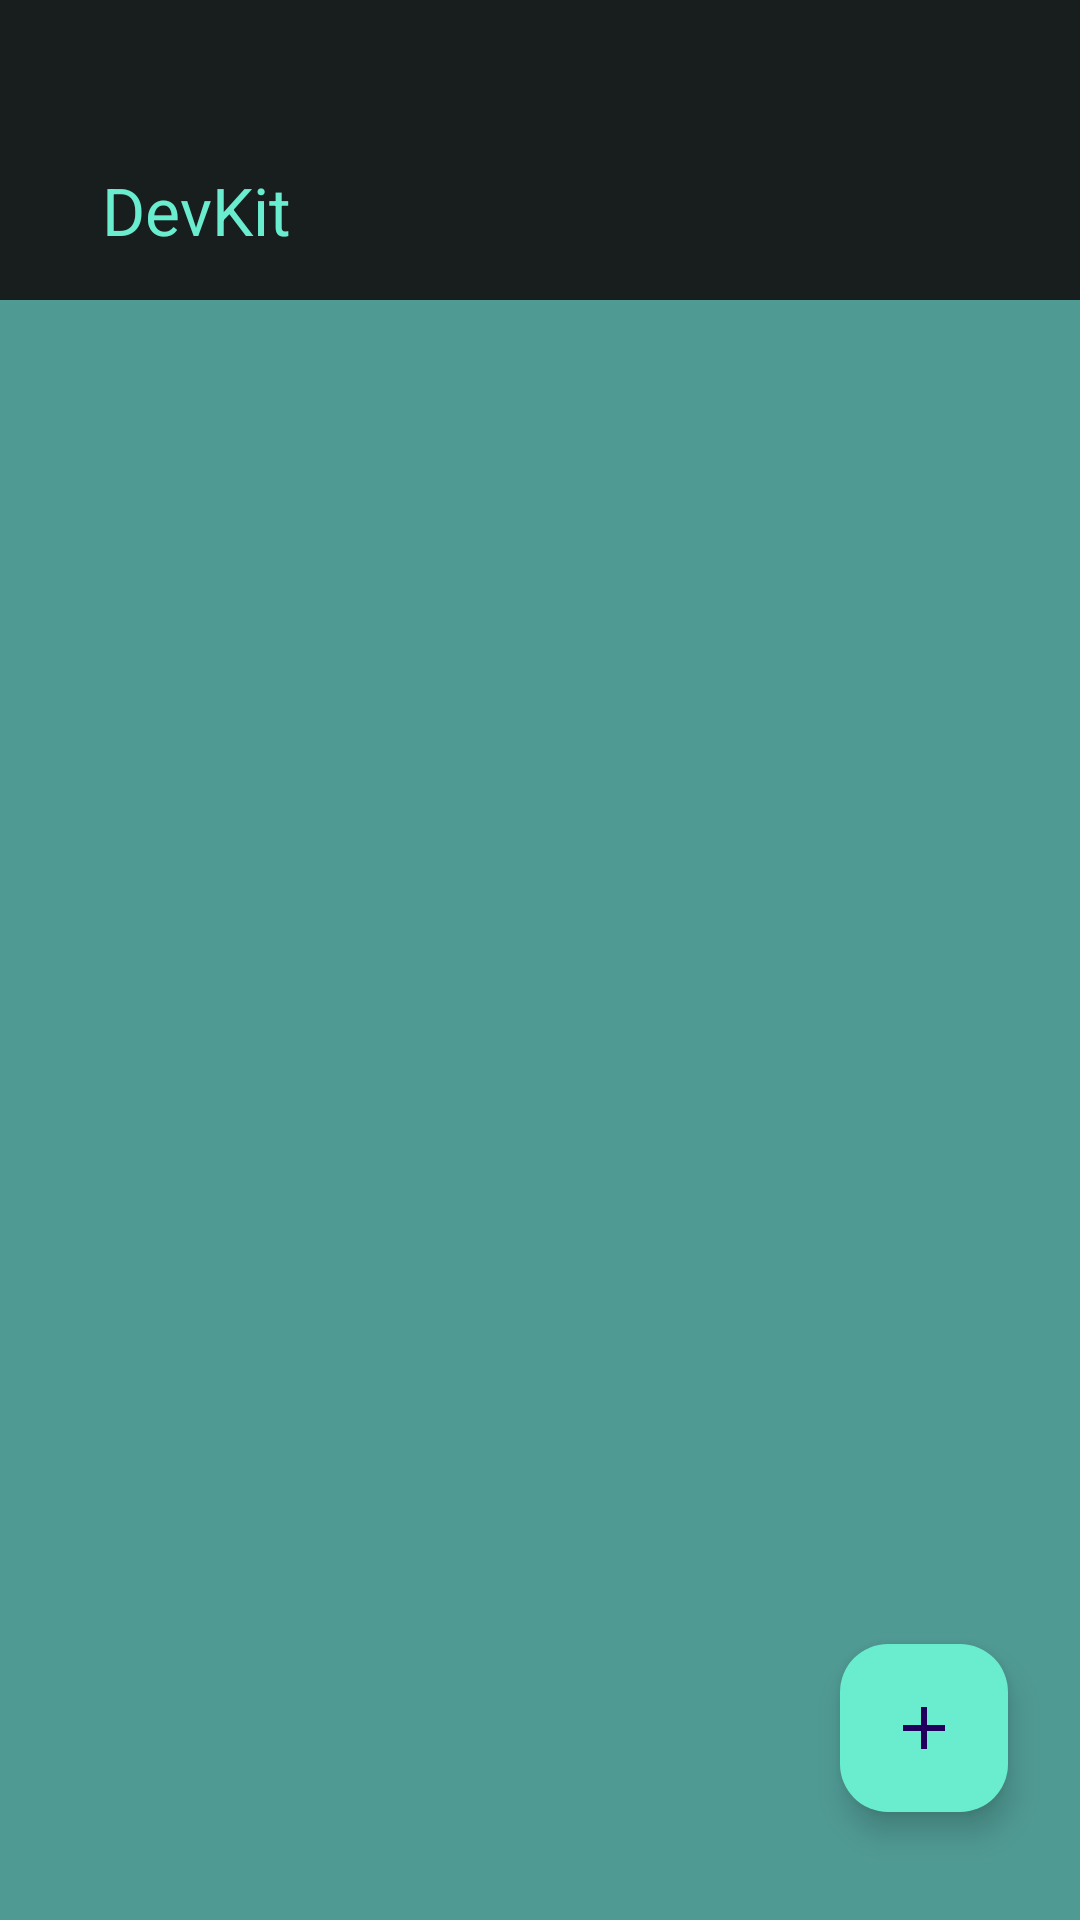

Screen size 1080px x 1920px. Icon name, then its box in pixels as (x1, y1, x2, y2):
add: (840, 1644, 1008, 1812)
